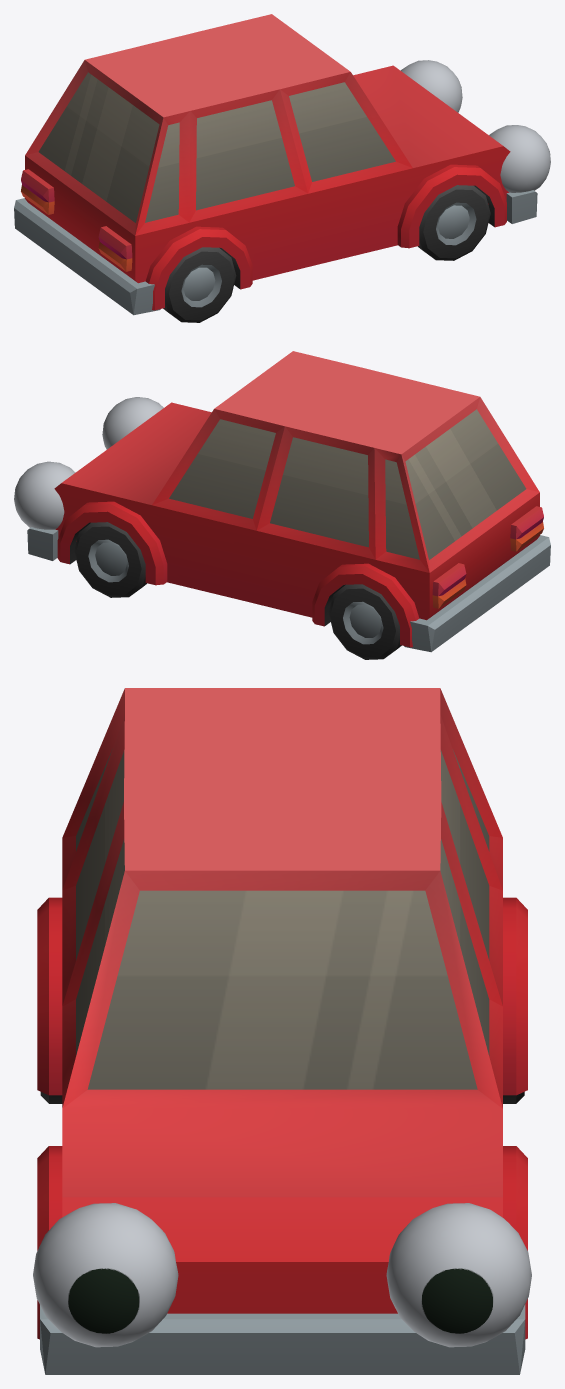
File: Car (1).glb
The picture shows the model from 3 angles, top to bottom: view 1: azimuth 30°, elevation 25°; view 2: azimuth 150°, elevation 25°; view 3: azimuth 270°, elevation 25°; orthographic projection. The views are drawn at different scales.
Parts seen in each view (by area): view 1: car_hatchback_wheel_rear_right, Car Eyes; view 2: car_hatchback_wheel_rear_right, Car Eyes; view 3: car_hatchback_wheel_rear_right, Car Eyes.
Part boxes in pixels (box(x1,y1,x2,y2)): car_hatchback_wheel_rear_right: box(14, 14, 537, 322); Car Eyes: box(400, 60, 550, 192); car_hatchback_wheel_rear_right: box(27, 351, 550, 659); Car Eyes: box(14, 397, 163, 529); car_hatchback_wheel_rear_right: box(37, 688, 527, 1374); Car Eyes: box(33, 1203, 531, 1347).
Bounding box in the file's own units: 2.08 × 0.9003 × 1.04.
2 materials, 2 textured.
